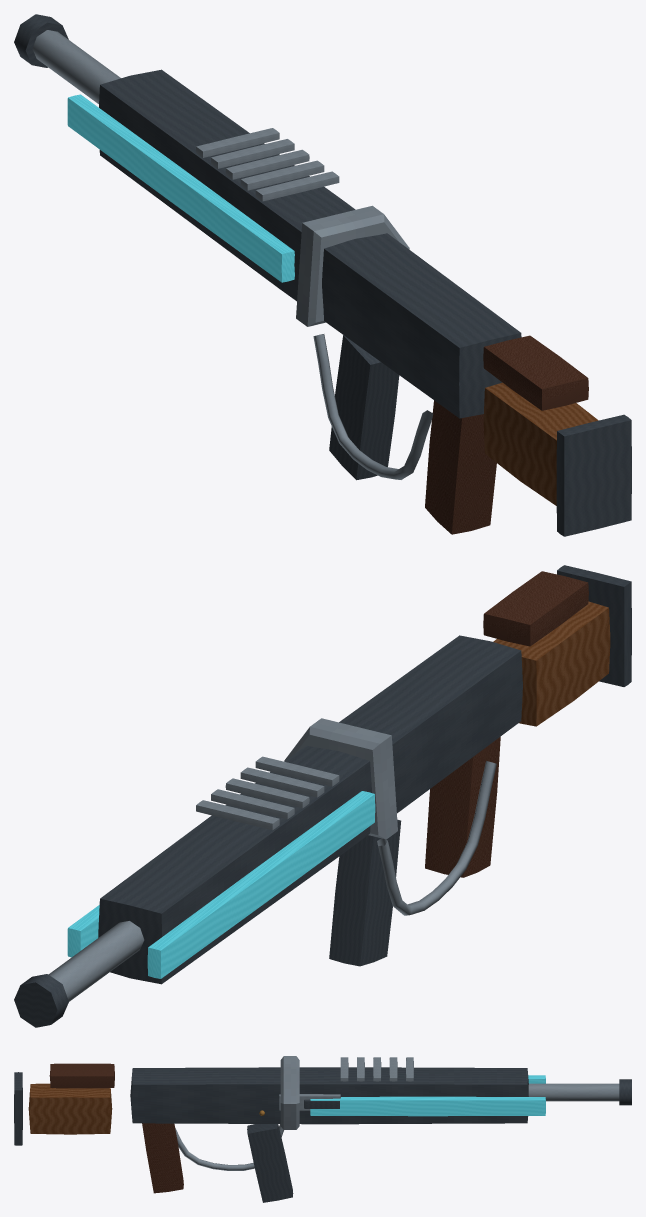
Rendered from railgun.lod2.glb.
3 renders of one model, top to bottom at view 1: azimuth 30°, elevation 25°; view 2: azimuth 150°, elevation 25°; view 3: azimuth 270°, elevation 25°, orthographic. The views are drawn at different scales.
Parts seen in each view (by area): view 1: iron.0, crystal.10, iron.20, leather.1, wood.8, iron.9, leather.19, steel.12, steel.13, steel.2, iron.18, steel.6 (+4 smaller); view 2: iron.0, crystal.10, wood.8, iron.9, leather.1, leather.19, steel.12, iron.20, steel.2, steel.13, iron.18, steel.7 (+5 smaller); view 3: iron.0, crystal.11, wood.8, iron.9, leather.1, leather.19, steel.2, steel.12, iron.20, steel.13, iron.18, steel.14 (+1 smaller).
Boxes of the visible parts, x1,y1,x2,y2 form: iron.0: [99, 69, 521, 418]; crystal.10: [67, 94, 294, 282]; iron.20: [556, 414, 631, 536]; leather.1: [425, 400, 496, 534]; wood.8: [483, 382, 598, 505]; iron.9: [329, 335, 399, 480]; leather.19: [483, 335, 588, 410]; steel.12: [296, 205, 409, 326]; steel.13: [313, 334, 433, 479]; steel.2: [32, 30, 120, 103]; iron.18: [14, 14, 68, 67]; steel.6: [240, 160, 324, 190]; iron.0: [98, 635, 522, 984]; crystal.10: [147, 791, 375, 978]; wood.8: [493, 601, 610, 726]; iron.9: [329, 819, 401, 966]; leather.1: [425, 737, 500, 877]; leather.19: [483, 571, 588, 646]; steel.12: [284, 718, 397, 839]; iron.20: [557, 565, 631, 686]; steel.2: [48, 921, 144, 1001]; steel.13: [377, 761, 496, 915]; iron.18: [14, 974, 68, 1027]; steel.7: [255, 756, 339, 786]; iron.0: [130, 1067, 528, 1124]; crystal.11: [310, 1096, 545, 1116]; wood.8: [28, 1083, 112, 1134]; iron.9: [247, 1124, 293, 1202]; leather.1: [142, 1123, 183, 1193]; leather.19: [49, 1063, 114, 1088]; steel.2: [528, 1083, 619, 1101]; steel.12: [280, 1056, 299, 1129]; iron.20: [14, 1072, 22, 1145]; steel.13: [175, 1124, 283, 1170]; iron.18: [619, 1079, 631, 1105]; steel.14: [279, 1094, 340, 1110].
Size of the model in its own units: 0.1819 by 0.403 by 1.7.
Materials: 6 (6 with a texture image).
